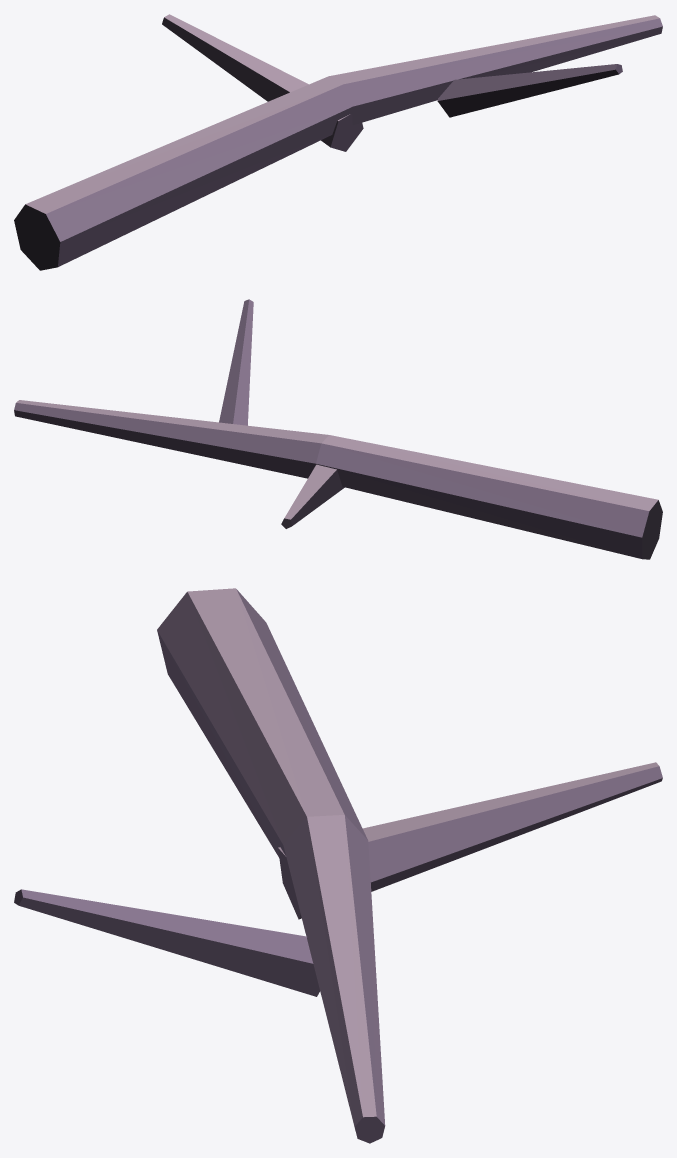
The model's file is TW_PROP_BRANCH_FORK_B_LOD0.glb.
3 renders of one model, top to bottom at view 1: azimuth 30°, elevation 25°; view 2: azimuth 150°, elevation 25°; view 3: azimuth 270°, elevation 25°, orthographic. The views are drawn at different scales.
Visible parts, largest first — view 1: TW_PROP_BRANCH_FORK_B_LOD0; view 2: TW_PROP_BRANCH_FORK_B_LOD0; view 3: TW_PROP_BRANCH_FORK_B_LOD0.
Part boxes in pixels (x1,y1,x2,y2): TW_PROP_BRANCH_FORK_B_LOD0: [14, 14, 662, 270]; TW_PROP_BRANCH_FORK_B_LOD0: [14, 299, 662, 559]; TW_PROP_BRANCH_FORK_B_LOD0: [14, 588, 662, 1143].
Size of the model in its own units: 1.39 by 0.2465 by 0.7391.
1 material, 1 textured.
